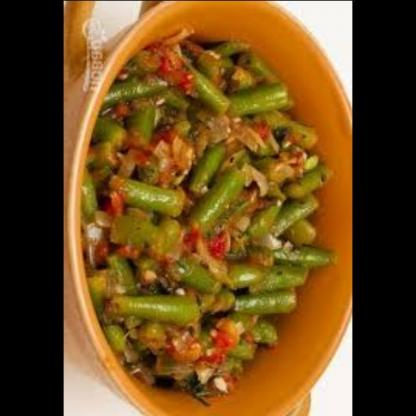fasol: (121, 40, 310, 368)
